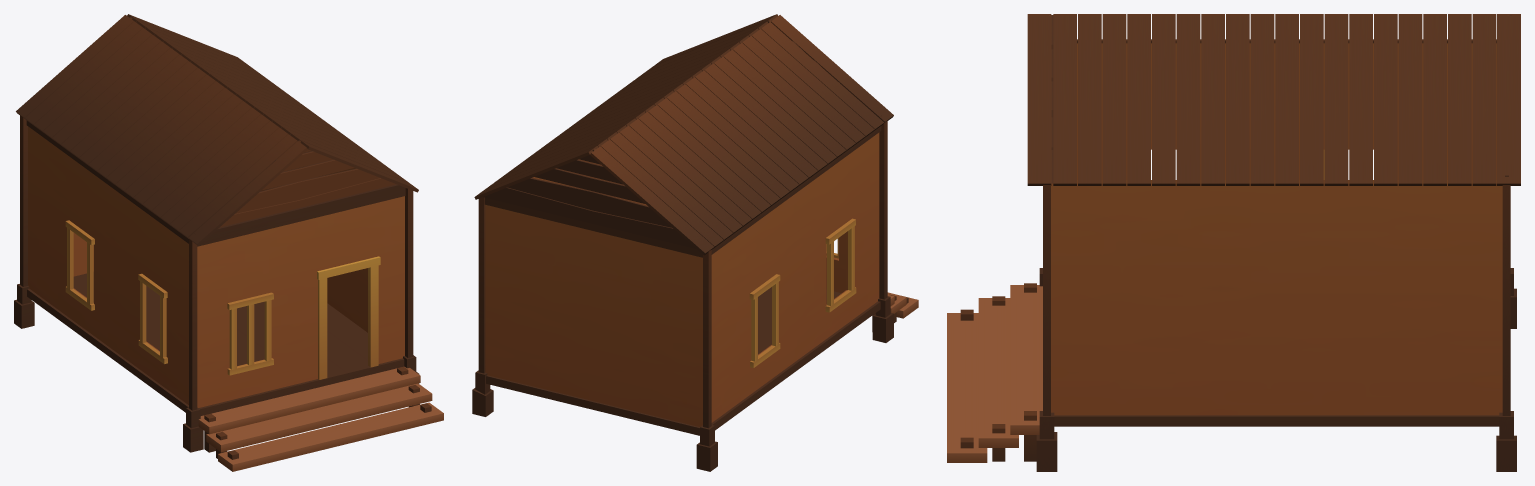
Rendered from Udo_House.fbx.
3 renders of one model, left to right at view 1: azimuth 30°, elevation 25°; view 2: azimuth 150°, elevation 25°; view 3: azimuth 270°, elevation 25°, orthographic. The views are drawn at different scales.
Parts seen in each view (by area): view 1: Udo_House; view 2: Udo_House; view 3: Udo_House.
Part boxes in pixels (x1,y1,x2,y2): Udo_House: [14, 14, 443, 471]; Udo_House: [472, 14, 918, 471]; Udo_House: [947, 14, 1520, 471].
Size of the model in its own units: 914 by 1070 by 1460.
Materials: 1 (1 with a texture image).
